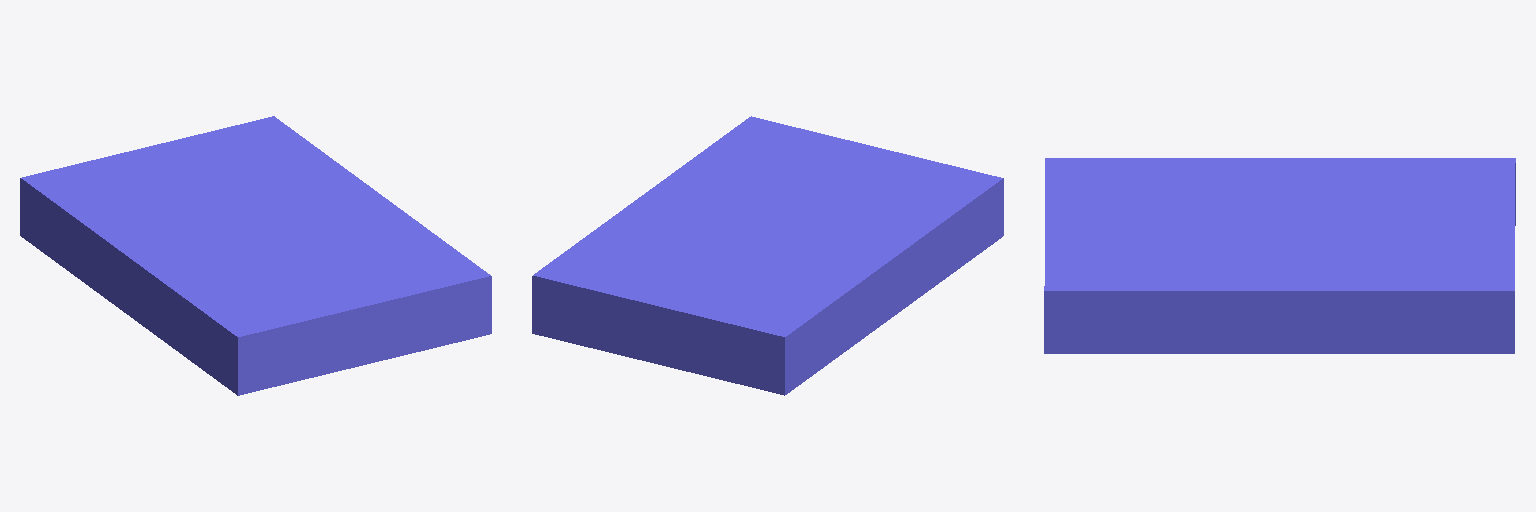
URDF robot description (pallet2_gazebo):
<?xml version="1.0" encoding="utf-8"?>
<!-- This URDF was automatically created by SolidWorks to URDF Exporter! Originally created by [author] ([email redacted]) 
     Commit Version: 1.5.1-0-g916b5db  Build Version: 1.5.7152.31018
     For more information, please see http://wiki.ros.org/sw_urdf_exporter -->
<robot name="pallet2_gazebo">

	<link name="world" />

	<joint name="fixed3" type="fixed">
		<parent link="world"/>
		<child link="sup_pallet_1"/>
		<origin xyz="0.666 1.2 0.0" rpy="0.0 0.0 3.14"/>
	</joint>

	<link name="sup_pallet_1">
		<inertial>
			<!-- <origin xyz="1.1327E-16 -3.3286E-17 0.66019" rpy="0 0 0" /> -->
			<origin xyz="0.60 0.40 0.08" rpy="0 0 0" />
			<mass value="40" />
			<inertia ixx="7.5972" ixy="0" ixz="0" iyy="0.99673" iyz="0" izz="8.1168" />
		</inertial>
		<visual>
			<origin xyz="0.0 0.0 0.0" rpy="0 0 0" />
			<geometry>
				<mesh filename="package://demo_world/meshes/sup_pallet.stl" />
			</geometry>
			<material name="white">
				<color rgba="0.5 0.5 1 1" />
			</material>
		</visual>
	</link>

</robot>

--- Facts derived from the render (not from the file) ---
The picture shows the robot from 3 angles, left to right: view 1: azimuth 30°, elevation 25°; view 2: azimuth 150°, elevation 25°; view 3: azimuth 270°, elevation 25°; orthographic projection.
Model pallet2_gazebo with 2 links and 1 joints (1 fixed), rooted at world, posed every joint at zero.
Links seen in each view (by area): view 1: sup_pallet_1; view 2: sup_pallet_1; view 3: sup_pallet_1.
Link boxes in pixels (x1,y1,x2,y2): sup_pallet_1: (20, 116, 491, 395); sup_pallet_1: (532, 116, 1003, 395); sup_pallet_1: (1044, 158, 1515, 353).
Bounding box of the posed robot: 0.8066 × 1.2 × 0.1772 m (x, y, z).
1 mesh visuals loaded from 1 distinct referenced files (1 binary STL).